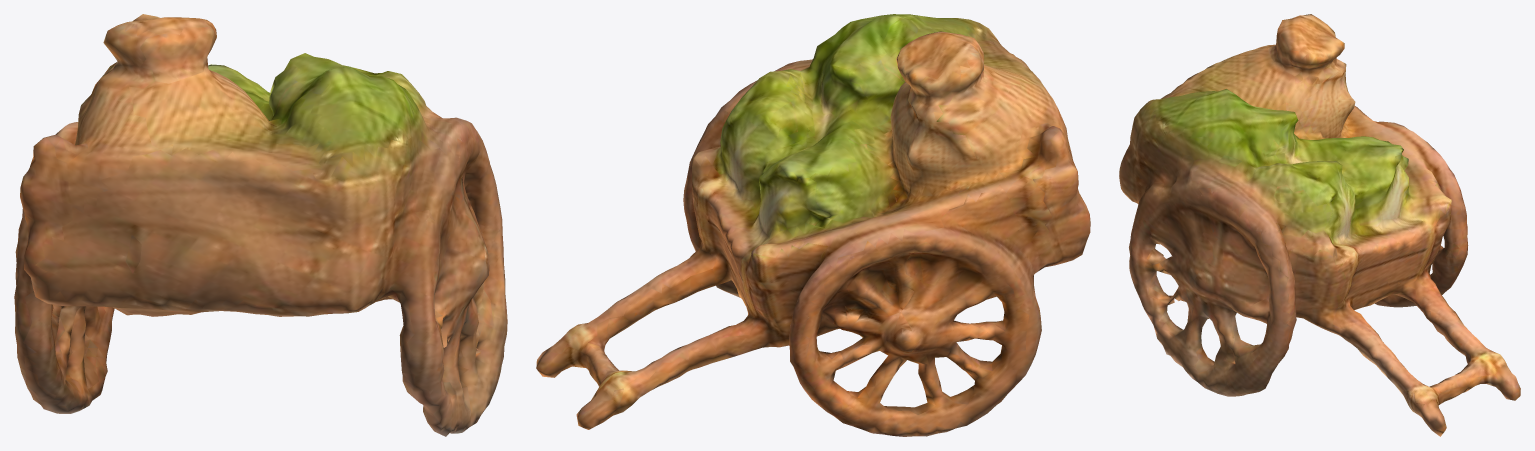
Rendered from cart.glb.
3 renders of one model, left to right at view 1: azimuth 30°, elevation 25°; view 2: azimuth 150°, elevation 25°; view 3: azimuth 270°, elevation 25°, orthographic. The views are drawn at different scales.
Visible parts, largest first — view 1: world; view 2: world; view 3: world.
Part boxes in pixels (x1,y1,x2,y2): world: (14, 14, 507, 436); world: (536, 14, 1090, 436); world: (1119, 14, 1520, 436).
Bounding box in the file's own units: 1.34 × 1 × 1.26.
1 material, 1 textured.
